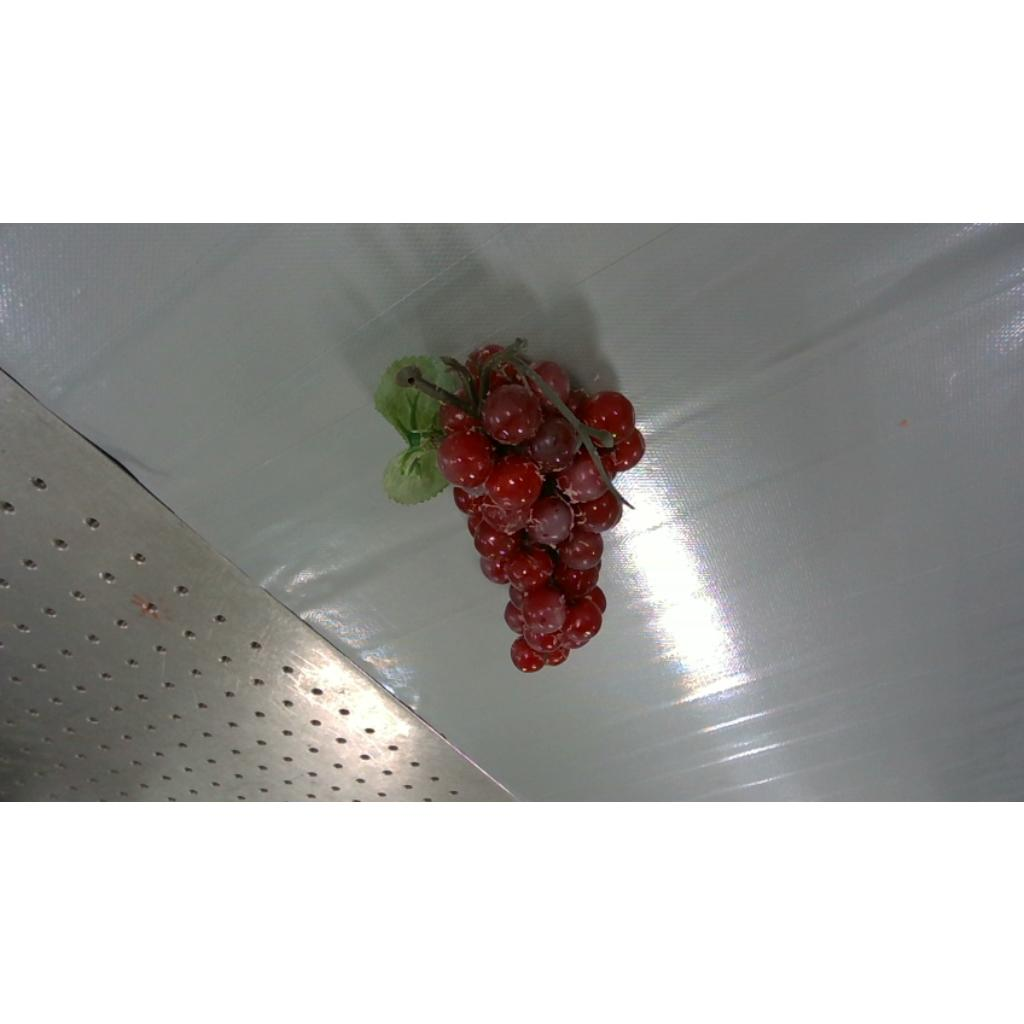grape: (374, 338, 646, 672)
